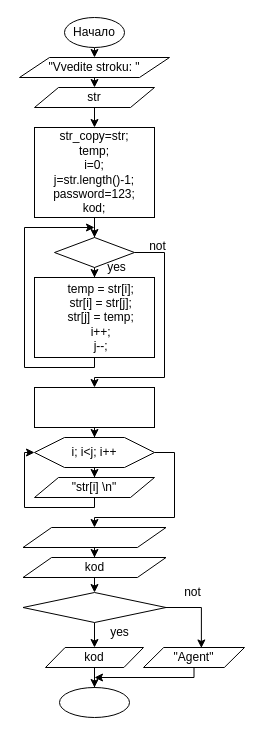
Some shapes in this 262 by 735 pixel diagram are drawn without their labels. Here are the shapes that lost their labels. From the top down, the box of each, then its label:
(54, 236, 134, 268): i<j
(34, 386, 154, 428): i=0; j=str.length()-1;
(22, 526, 166, 548): "Введите пароль"
(22, 592, 166, 622): kod == password
(58, 686, 130, 718): Конец
